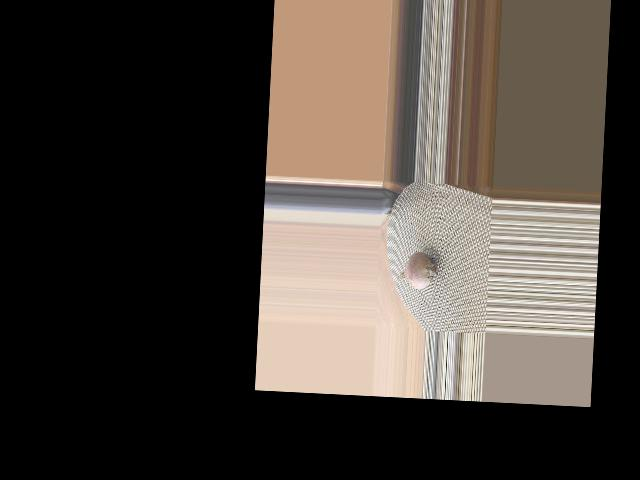beet: (392, 245, 440, 296)
